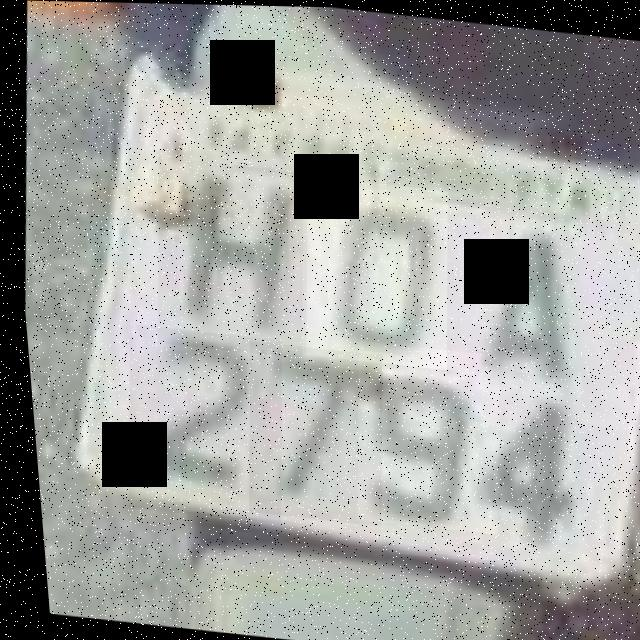2: (107, 323, 288, 523)
4: (453, 355, 616, 544)
7: (228, 339, 387, 525)
9: (337, 339, 505, 534)
H: (139, 155, 312, 357)
O: (288, 174, 456, 369)
